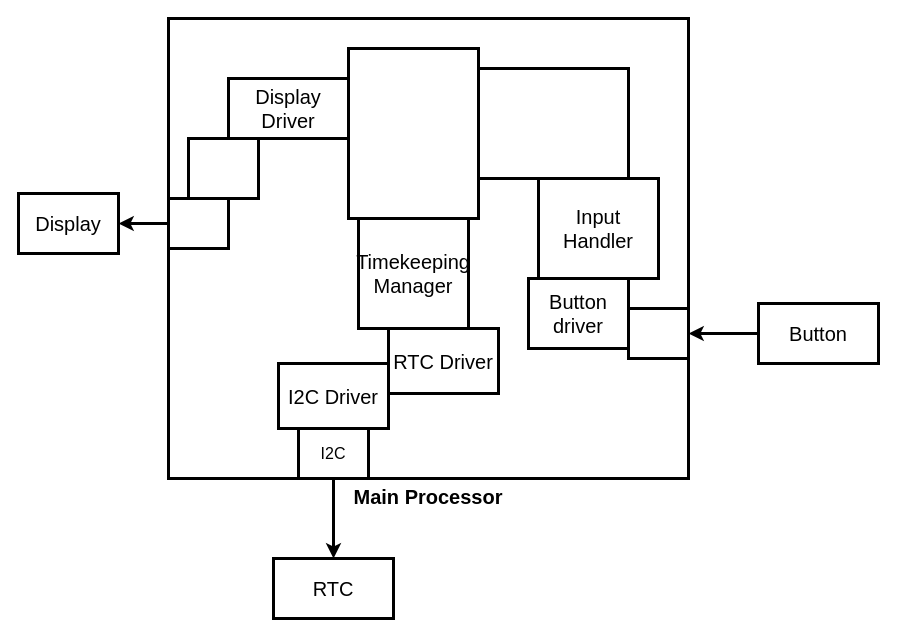
Some shapes in this 897 by 637 pixel diagram are drawn without their labels. The centre of each missing label's shape, as x and y in pixels:
"GPIO" belongs at (x=658, y=333).
"SPI" belongs at (x=198, y=223).
"SPI Driver" belongs at (x=223, y=168).
"UI Rendering" belongs at (x=413, y=133).
"UI State Machine" belongs at (x=553, y=123).
